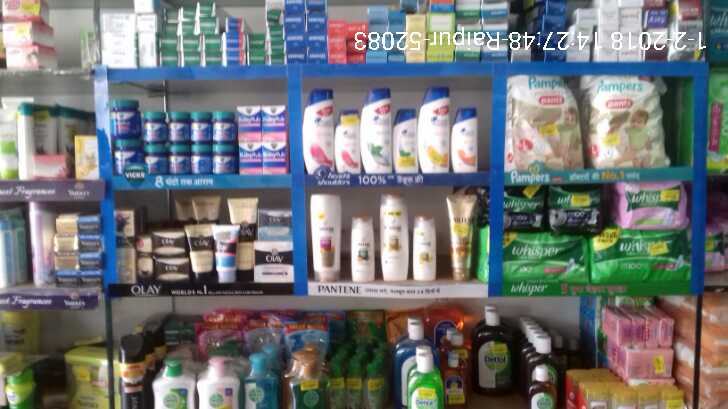beauty: (356, 86, 393, 180), (306, 191, 339, 284), (375, 193, 408, 283), (300, 91, 335, 175), (419, 93, 450, 172), (148, 228, 192, 280), (448, 107, 479, 175), (251, 242, 298, 284), (335, 111, 363, 179), (350, 212, 375, 283), (393, 107, 419, 173), (411, 215, 436, 282)
pharmacy: (579, 75, 671, 169), (506, 75, 582, 174), (592, 229, 692, 281), (503, 232, 594, 283), (606, 182, 695, 229), (545, 186, 603, 233), (503, 186, 548, 230), (108, 100, 142, 143), (257, 104, 285, 148), (237, 106, 262, 144), (139, 112, 167, 145), (235, 143, 263, 175), (210, 113, 238, 143), (263, 145, 287, 173), (190, 113, 212, 142), (169, 114, 189, 141)
